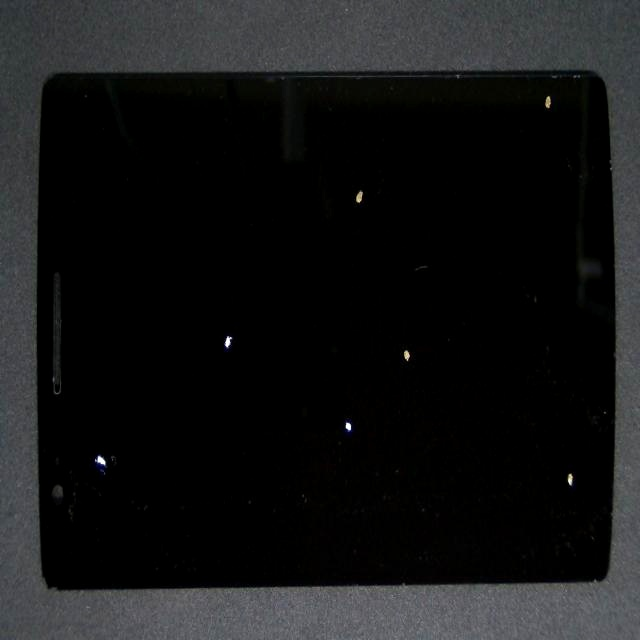stain: (167, 188, 604, 583), (179, 156, 508, 610), (258, 277, 640, 640), (163, 36, 512, 261), (114, 125, 317, 499), (228, 53, 640, 188), (64, 175, 140, 640)
